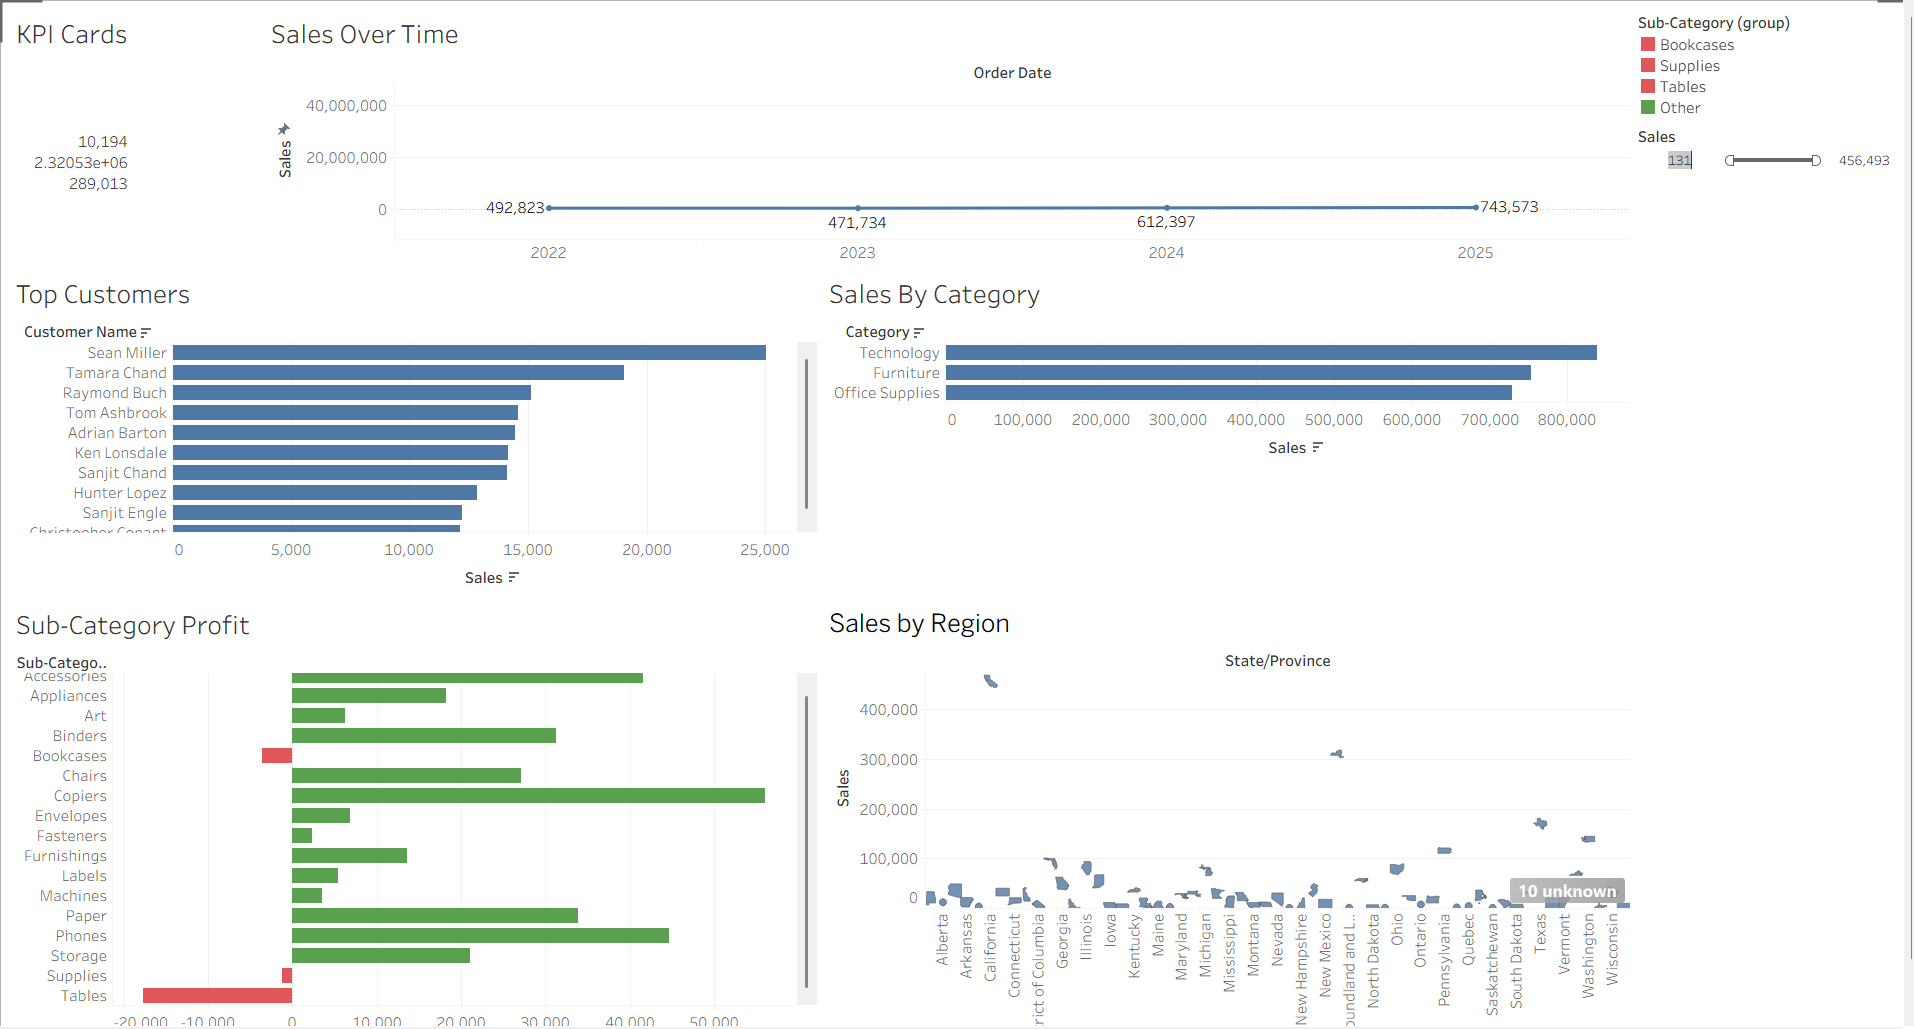

This screenshot's page, from the dashboard's own definition file:
{"tool":"tableau","page":{"name":"Dashboard 1","canvas":[1000,1000],"units":"permille","ordinal":0},"visuals":[{"type":"worksheet","title":"Sheet 6","mark":"Automatic","box":[4.2,7.4,133,240.7]},{"type":"worksheet","title":"Sheet 1","mark":"Automatic","rows":["Sales"],"cols":["Order Date"],"box":[137.2,7.4,713.8,240.7]},{"type":"legend","title":"Sheet 3","param":"[federated.1s3uhlm0k92hw210i8qw613d6p79].[Sub-Category (group)]","box":[851,7.4,144.8,105.6]},{"type":"filter","title":"Sheet 4","param":"[federated.1s3uhlm0k92hw210i8qw613d6p79].[sum:Sales:qk]","box":[851,113,144.8,50.9]},{"type":"worksheet","title":"Sheet 5","mark":"Automatic","rows":["Customer Name"],"cols":["Sales"],"box":[4.2,248.1,423.4,306.8]},{"type":"worksheet","title":"Sheet 2","mark":"Automatic","rows":["Category"],"cols":["Sales"],"box":[427.6,248.1,423.4,306.8]},{"type":"worksheet","title":"Sheet 3","mark":"Bar","rows":["Sub-Category"],"cols":["Profit"],"box":[4.2,554.9,423.4,437.7]},{"type":"worksheet","title":"Sheet 4","mark":"Multipolygon","rows":["Sales"],"cols":["State/Province"],"box":[427.5,554.9,423.5,437.7]}]}

Visuals, with their boxes on the dashboard's canvas, which has no fixed pixel size, in thousandths of its width and height (x1, y1, x2, y2). These are canvas units, not pixel positions in the 1914x1029 screenshot, which may show the page scaled, cropped or inside an application window:
"Sheet 6" worksheet: 4/7/137/248
"Sheet 1" worksheet: 137/7/851/248
"Sheet 3" legend: 851/7/996/113
"Sheet 4" filter: 851/113/996/164
"Sheet 5" worksheet: 4/248/428/555
"Sheet 2" worksheet: 428/248/851/555
"Sheet 3" worksheet (Bar marks): 4/555/428/993
"Sheet 4" worksheet (Multipolygon marks): 428/555/851/993
